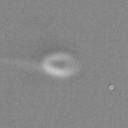normal: (1, 52, 43, 71)
